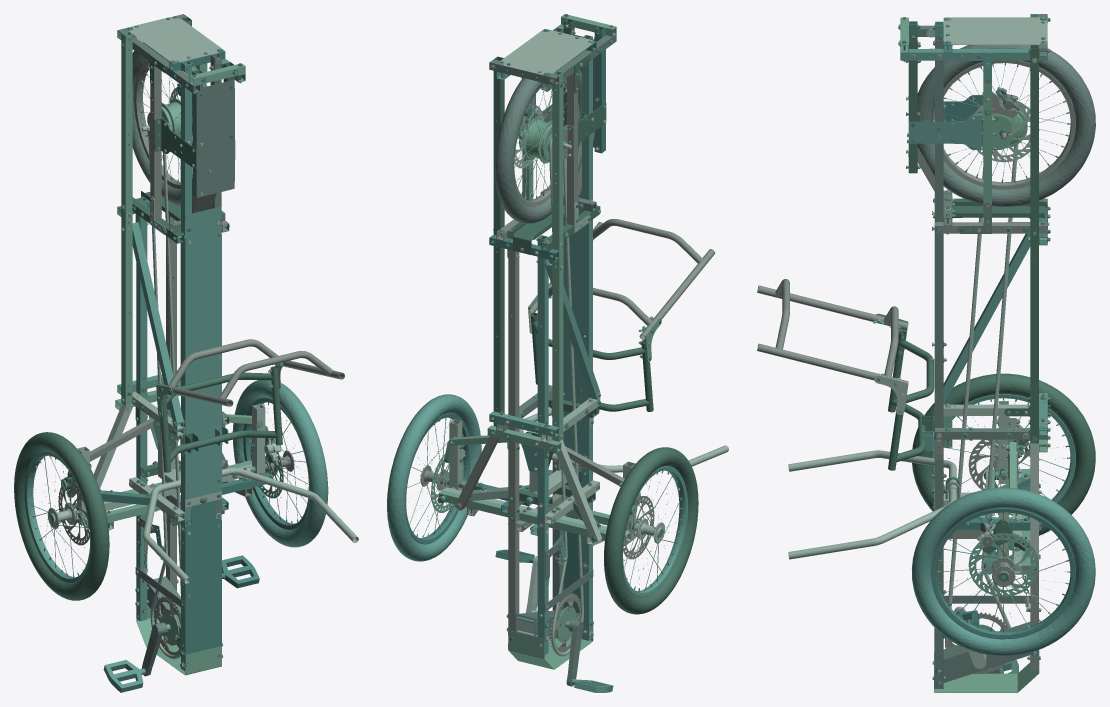
File: vheliotech-basique.glb
The picture shows the model from 3 angles, left to right: view 1: azimuth 30°, elevation 25°; view 2: azimuth 150°, elevation 25°; view 3: azimuth 270°, elevation 25°; orthographic projection. The views are drawn at different scales.
Visible parts, largest first — view 1: groupe-1, groupe-5, groupe-2, groupe-4, groupe-3, groupe-0, groupe-6; view 2: groupe-1, groupe-2, groupe-4, groupe-3, groupe-5, groupe-6, groupe-0; view 3: groupe-1, groupe-6, groupe-2, groupe-5, groupe-4, groupe-3, groupe-0.
Part boxes in pixels (x1,y1,x2,y2): groupe-1: [24, 22, 328, 692]; groupe-5: [35, 17, 358, 668]; groupe-2: [14, 17, 307, 600]; groupe-4: [30, 33, 344, 667]; groupe-3: [32, 25, 304, 675]; groupe-0: [32, 17, 309, 667]; groupe-6: [34, 14, 308, 676]; groupe-1: [387, 15, 688, 692]; groupe-2: [407, 14, 698, 640]; groupe-4: [417, 23, 715, 653]; groupe-3: [413, 14, 681, 669]; groupe-5: [409, 25, 728, 656]; groupe-6: [407, 25, 682, 686]; groupe-0: [405, 26, 680, 625]; groupe-1: [889, 21, 1095, 679]; groupe-6: [876, 14, 1095, 688]; groupe-2: [877, 18, 1095, 674]; groupe-5: [788, 17, 1070, 673]; groupe-4: [757, 18, 1075, 685]; groupe-3: [873, 14, 1069, 692]; groupe-0: [879, 17, 1075, 688].
Size of the model in its own units: 850 by 2158 by 976.
